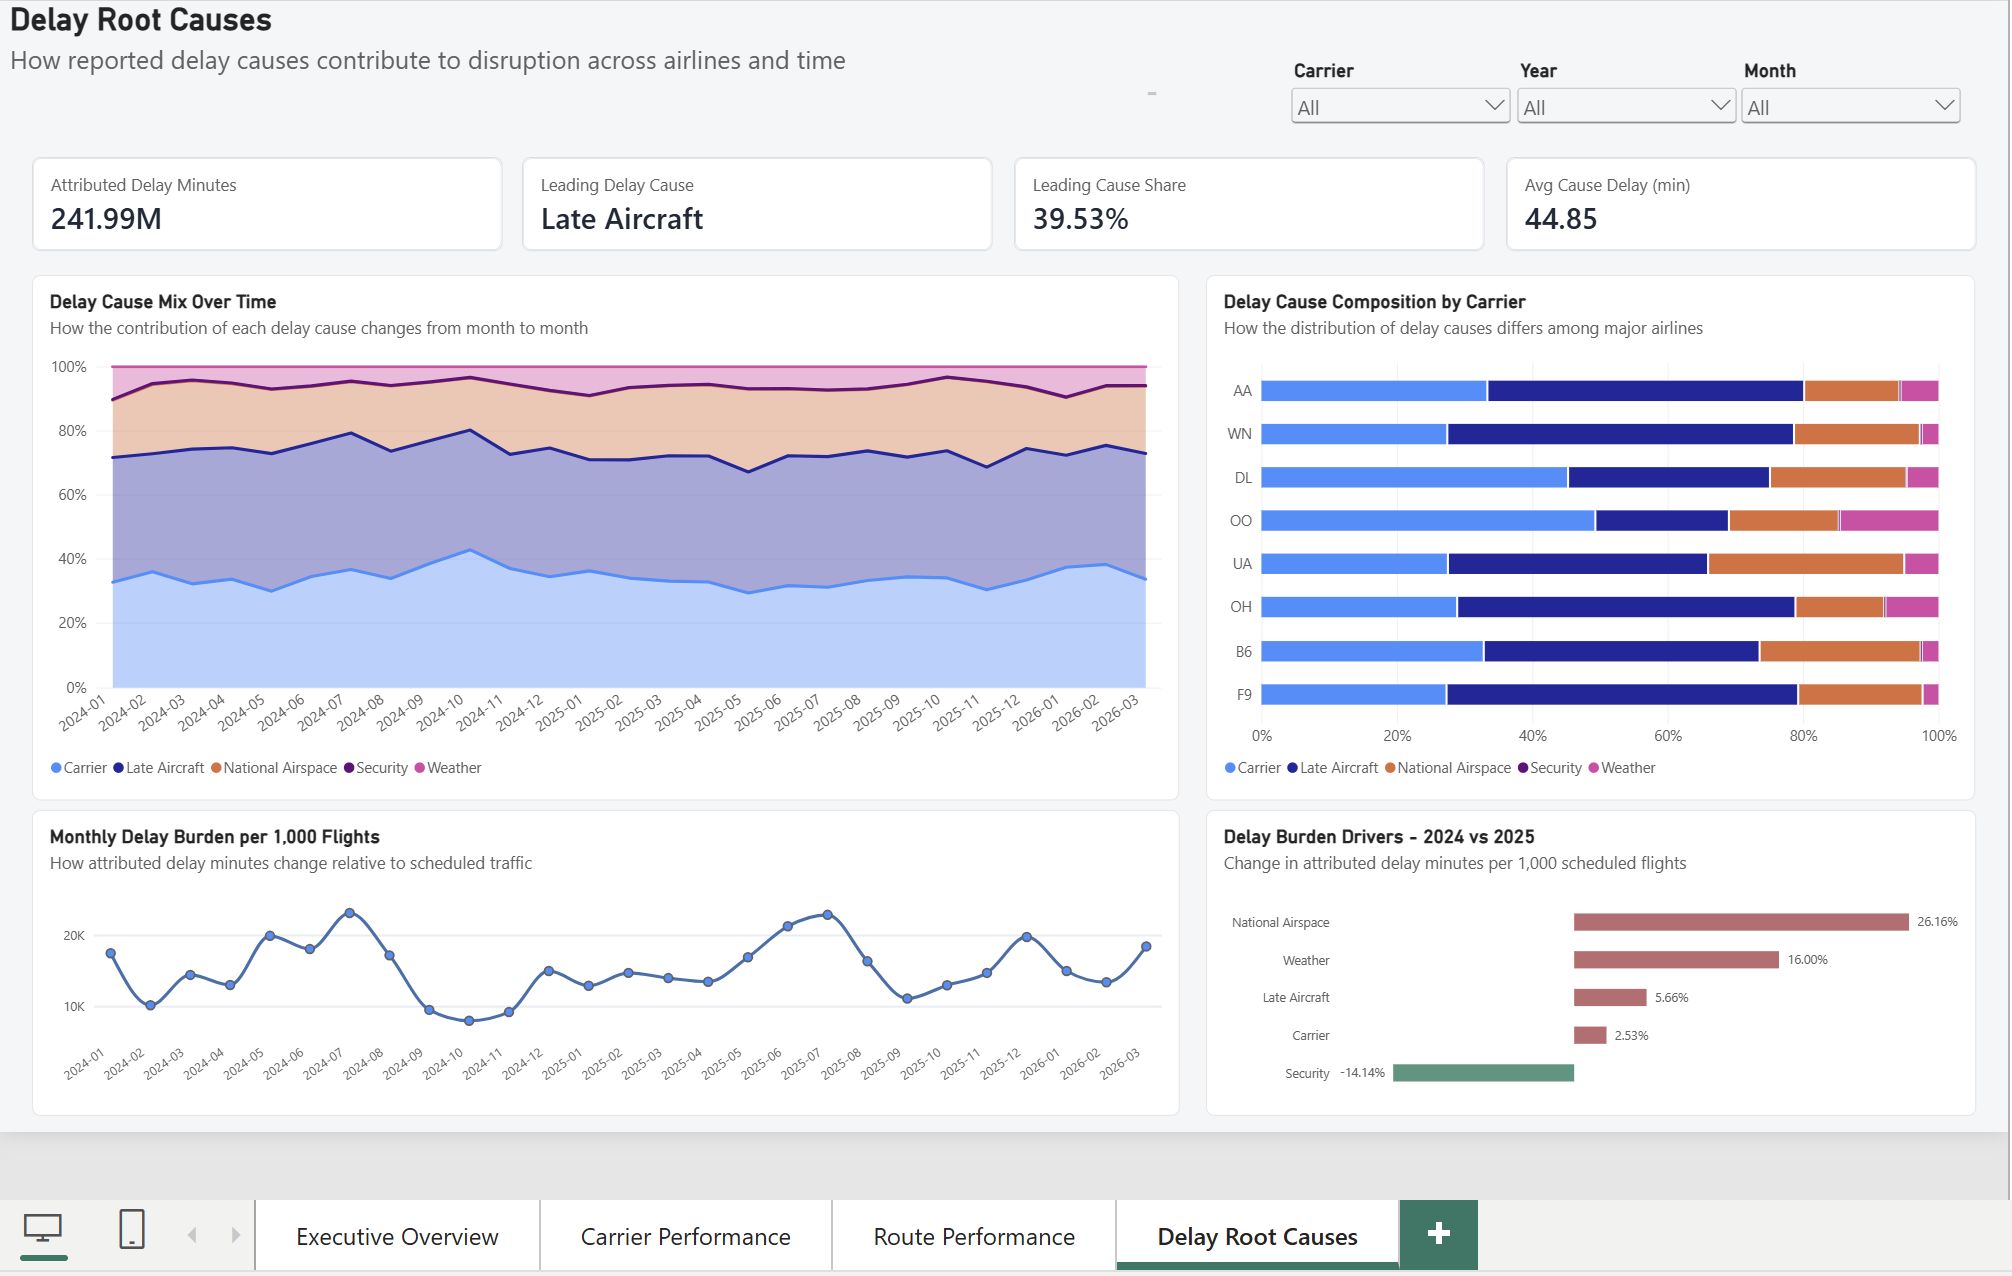

The page's visual inventory and layout, read from the dashboard file:
{"tool":"powerbi","page":{"name":"Delay Root Causes","canvas":[1920,1080],"ordinal":3},"visuals":[{"type":"textbox","title":"Delay Root Causes","box":[9.6,0,1095.8,89.9],"z":0},{"type":"cardVisual","fields":{"Data":["_Measures.Delay Cause Minutes"]},"box":[30,150,450,90],"z":2000},{"type":"cardVisual","title":"Leading Delay Cause","fields":{"Data":["_Measures.Root Leading Delay Cause"]},"box":[500,150,450,90],"z":3000},{"type":"cardVisual","fields":{"Data":["_Measures.Root Leading Cause Share"]},"box":[970,150,450,90],"z":4000},{"type":"cardVisual","fields":{"Data":["_Measures.Root Avg Minutes per Cause Occurrence"]},"box":[1440,150,450,90],"z":5000},{"type":"slicer","title":"Reporting year","fields":{"Values":["dim_date.calendar_year"]},"box":[1445,55,220,70],"z":6000},{"type":"slicer","title":"Reporting year","fields":{"Values":["dim_date.month_name"]},"box":[1660,55,220,70],"z":7000},{"type":"slicer","title":"Reporting year","fields":{"Values":["dim_carrier.reporting_airline_code"]},"box":[1230,56,220,70],"z":8000},{"type":"hundredPercentStackedAreaChart","title":"Delay Cause Mix Over Time","fields":{"Category":["dim_date.year_month"],"Series":["dim_delay_cause.delay_cause_name"],"Y":["_Measures.Delay Cause Minutes"]},"box":[30.7,261,1097.1,501.6],"z":10001},{"type":"hundredPercentStackedBarChart","title":"Delay Cause Composition by Carrier","fields":{"Category":["dim_carrier.reporting_airline_code"],"Series":["dim_delay_cause.delay_cause_name"],"Y":["_Measures.Delay Cause Minutes"]},"box":[1153.4,261,735.4,501.6],"z":10002},{"type":"lineChart","title":"Monthly Delay Burden per 1,000 Flights","fields":{"Category":["dim_date.year_month"],"Y":["_Measures.Root Delay Minutes per 1K Flights"]},"box":[30.6,772.6,1097.7,292.6],"z":10003},{"type":"barChart","title":"Delay Burden Drivers - 2024 vs 2025","fields":{"Category":["dim_delay_cause.delay_cause_name"],"Y":["_Measures.Root Cause Burden YoY %"]},"box":[1153.1,772.6,736.3,292.6],"z":10005}]}

Visuals, with their boxes on the page's 1920x1080 design canvas (x1, y1, x2, y2). These are canvas units, not pixel positions in the 2012x1276 screenshot, which may show the page scaled, cropped or inside an application window:
"Delay Root Causes" textbox: 10 0 1105 90
cardVisual - _Measures.Delay Cause Minutes: 30 150 480 240
"Leading Delay Cause" cardVisual: 500 150 950 240
cardVisual - _Measures.Root Leading Cause Share: 970 150 1420 240
cardVisual - _Measures.Root Avg Minutes per Cause Occurrence: 1440 150 1890 240
"Reporting year" slicer: 1445 55 1665 125
"Reporting year" slicer: 1660 55 1880 125
"Reporting year" slicer: 1230 56 1450 126
"Delay Cause Mix Over Time" hundredPercentStackedAreaChart: 31 261 1128 763
"Delay Cause Composition by Carrier" hundredPercentStackedBarChart: 1153 261 1889 763
"Monthly Delay Burden per 1,000 Flights" lineChart: 31 773 1128 1065
"Delay Burden Drivers - 2024 vs 2025" barChart: 1153 773 1889 1065
